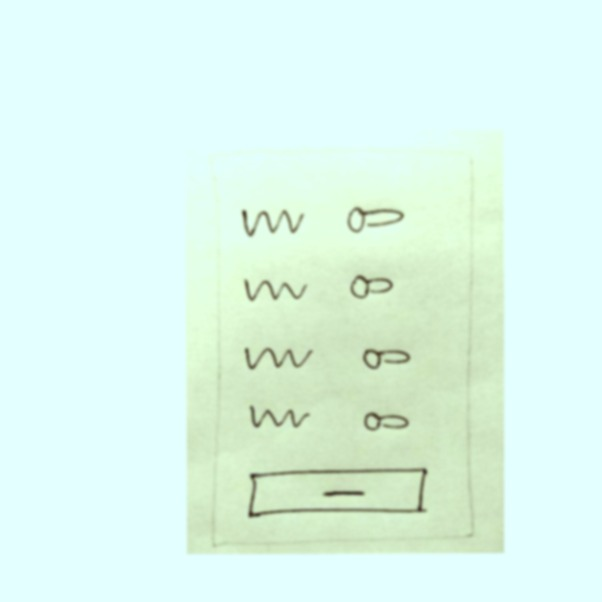button: (241, 465, 443, 520)
switch: (341, 199, 409, 237), (339, 270, 406, 306), (354, 342, 419, 376), (357, 405, 420, 439)
text: (237, 339, 319, 377), (237, 399, 316, 437), (237, 204, 312, 240), (238, 273, 313, 309)
